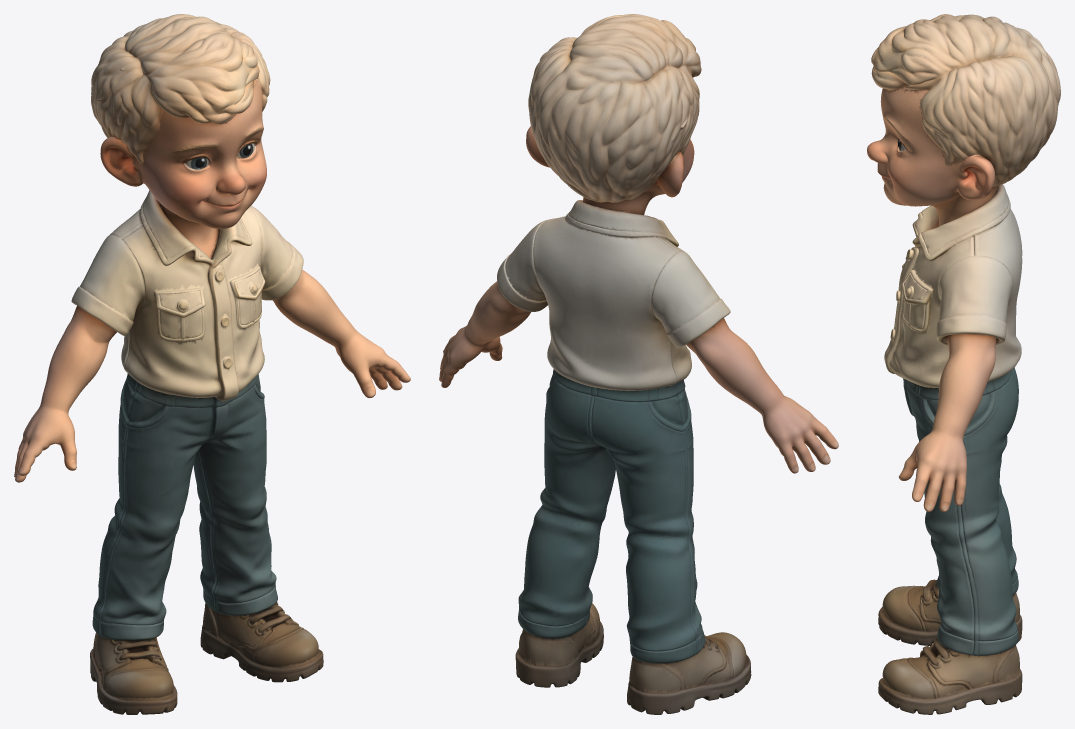
File: egill-tripo.glb
The picture shows the model from 3 angles, left to right: view 1: azimuth 30°, elevation 25°; view 2: azimuth 150°, elevation 25°; view 3: azimuth 270°, elevation 25°; orthographic projection.
Parts seen in each view (by area): view 1: tripo_part_0, tripo_part_1, tripo_part_4, tripo_part_3, tripo_part_8, tripo_part_6, tripo_part_2, tripo_part_7, tripo_part_5, tripo_part_9, tripo_part_10; view 2: tripo_part_0, tripo_part_1, tripo_part_4, tripo_part_3, tripo_part_8, tripo_part_6, tripo_part_5, tripo_part_9, tripo_part_2, tripo_part_7, tripo_part_10; view 3: tripo_part_0, tripo_part_1, tripo_part_3, tripo_part_7, tripo_part_2, tripo_part_10, tripo_part_8, tripo_part_5, tripo_part_4.
Part boxes in pixels (x1,y1,x2,y2): tripo_part_0: (91,14,270,257); tripo_part_1: (110,190,265,401); tripo_part_4: (92,434,202,641); tripo_part_3: (193,423,277,616); tripo_part_8: (118,373,266,453); tripo_part_6: (14,305,116,482); tripo_part_2: (200,602,323,682); tripo_part_7: (272,269,410,398); tripo_part_5: (90,632,177,714); tripo_part_9: (71,234,145,336); tripo_part_10: (250,205,303,300); tripo_part_0: (526,14,701,214); tripo_part_1: (533,200,691,391); tripo_part_4: (606,442,705,663); tripo_part_3: (518,428,615,640); tripo_part_8: (544,369,693,458); tripo_part_6: (686,318,838,473); tripo_part_5: (627,632,751,714); tripo_part_9: (650,251,730,347); tripo_part_2: (515,603,603,687); tripo_part_7: (439,281,530,387); tripo_part_10: (497,219,547,311); tripo_part_0: (867,14,1060,226); tripo_part_1: (884,184,1022,389); tripo_part_3: (919,436,1018,656); tripo_part_7: (898,334,996,511); tripo_part_2: (878,638,1022,714); tripo_part_10: (936,254,1012,345); tripo_part_8: (903,368,1018,455); tripo_part_5: (878,579,1022,645); tripo_part_4: (937,483,1018,595).
Size of the model in its own units: 0.6197 by 0.9798 by 0.2677.
Materials: 1 (1 with a texture image).
